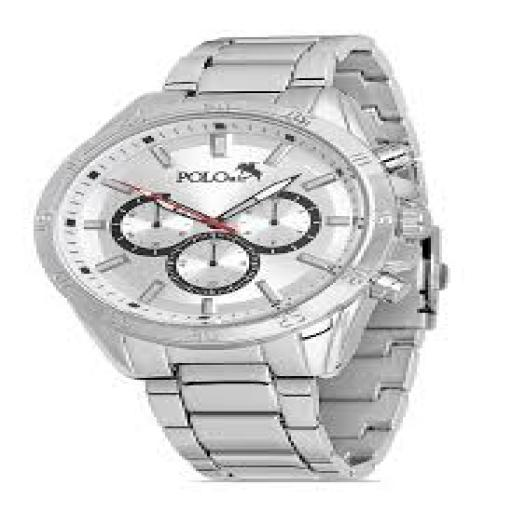KolSaati: (14, 16, 494, 468)
